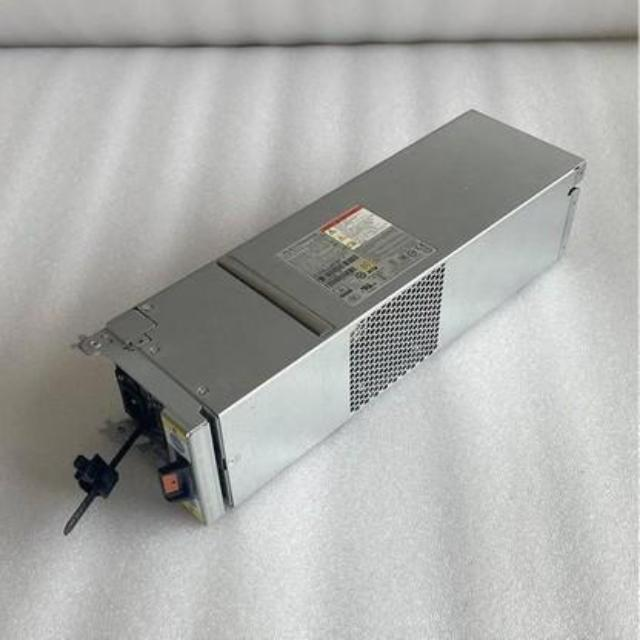PSU: (51, 83, 604, 534)
